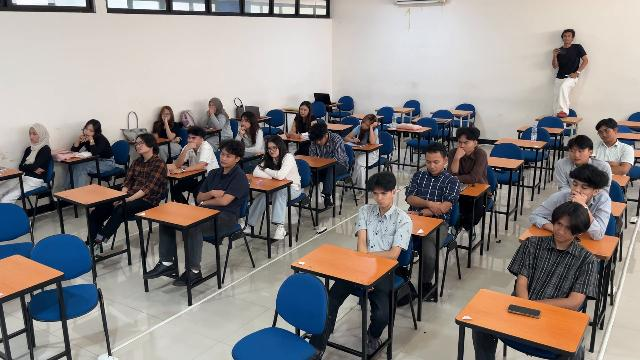bingung: (553, 218, 571, 242), (571, 179, 592, 197), (425, 156, 444, 174), (372, 189, 390, 207), (570, 148, 588, 164), (219, 150, 234, 167), (598, 127, 614, 141), (135, 139, 149, 154), (458, 137, 472, 152), (29, 129, 40, 143), (268, 144, 279, 157), (83, 126, 95, 137), (314, 135, 326, 146), (300, 106, 310, 117), (188, 134, 199, 143), (241, 117, 250, 128), (162, 110, 170, 121), (361, 120, 369, 130)
